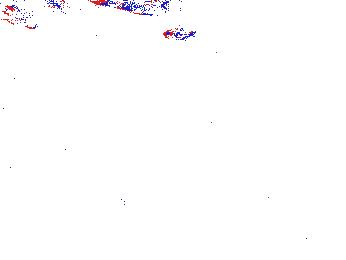X-ray fish: (30, 157, 106, 198), (158, 130, 229, 166)
red belly glassfish: (163, 25, 196, 43)
redtail glassfish: (1, 1, 71, 27), (90, 1, 174, 16)
